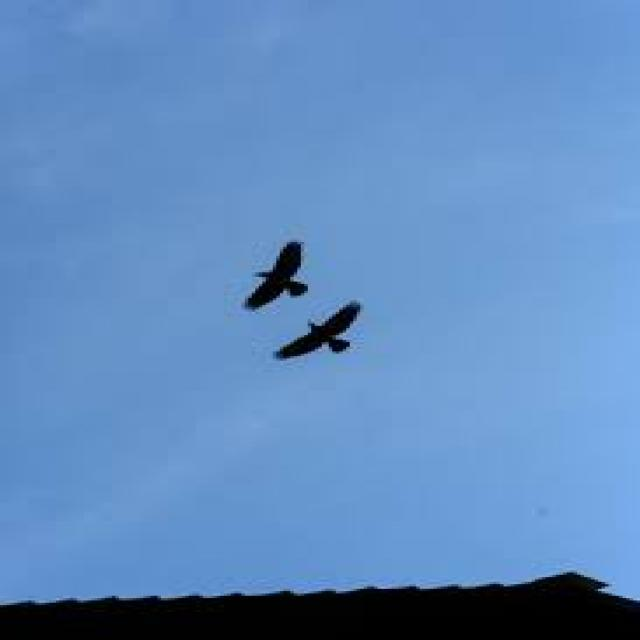bird: (269, 301, 409, 397), (210, 235, 322, 314)
